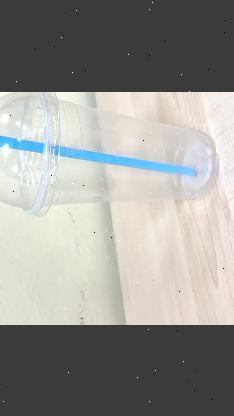Others: (0, 91, 220, 217)
